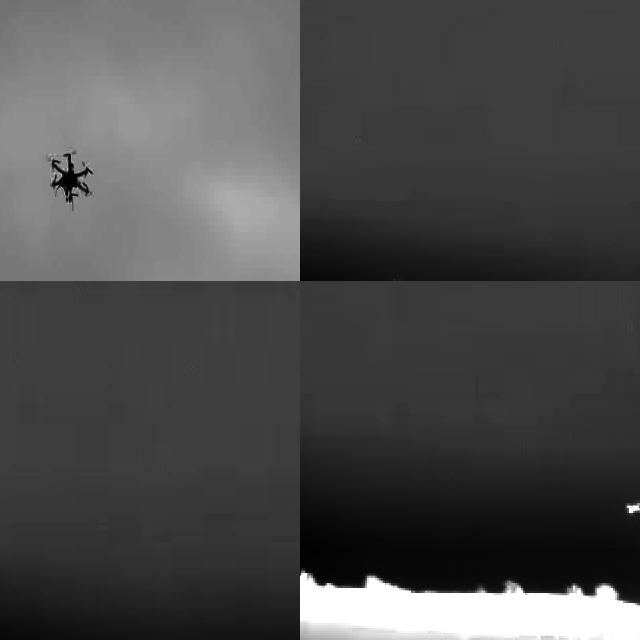0: (381, 268, 413, 281)
1: (615, 495, 640, 528)
drone: (46, 146, 95, 212)
